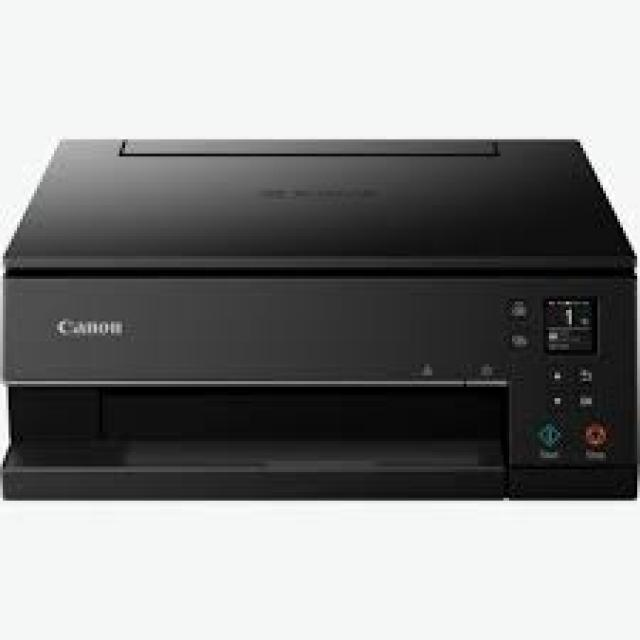printer: (0, 133, 637, 500)
